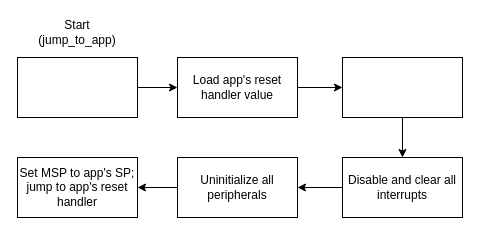
The diagram is 480 pixels wide and 235 high, and some of its shapes have lost their labels. Here are the shapes that lost their labels. From the top down, the centre of each, then its label:
At [77,87]: "Load app's stack pointer".
At [402,87]: "Sanity check app's SP & reset handler value".
